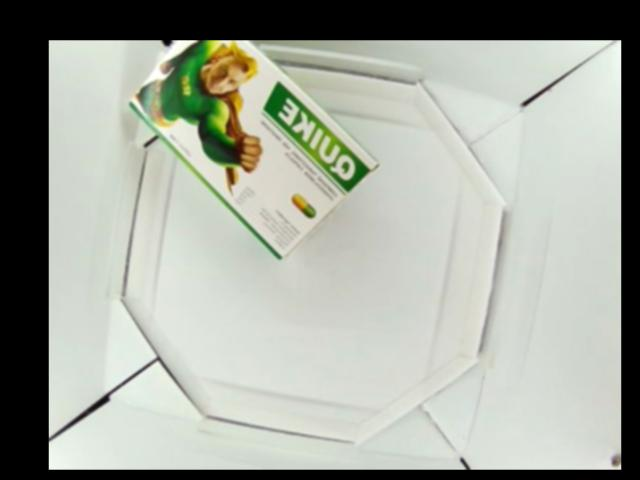Medicine: (122, 41, 381, 260)
